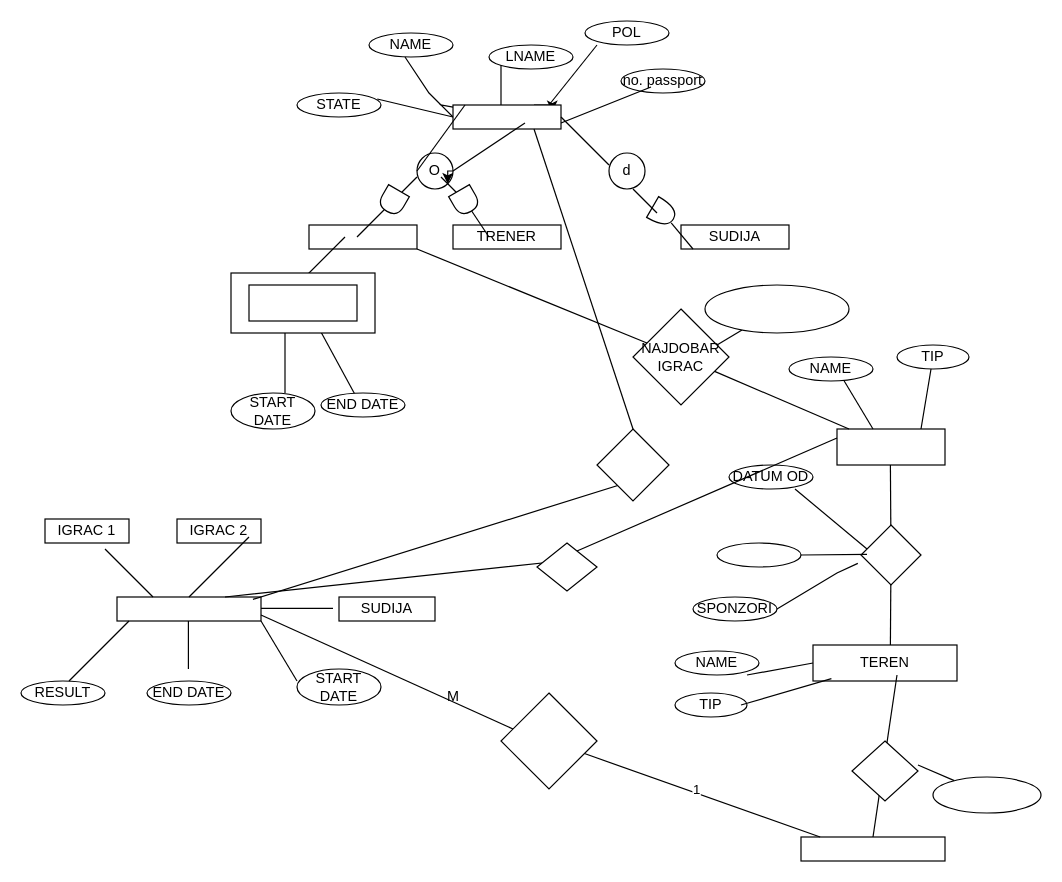
Some shapes in this 1062 by 882 pixel diagram are drawn without their labels. Here are the shapes that lost their labels. From the top down, the centre of each, then its label:
At pixel 506 116: "UCESNIK".
At pixel 362 236: "IGRAC".
At pixel 302 302: "RANG".
At pixel 776 308: "PARICNA NAGRADA".
At pixel 890 446: "TURNIR".
At pixel 758 554: "DATUM DO".
At pixel 188 608: "NATPREVAR".
At pixel 986 794: "BR NA SEDISTE".
At pixel 872 848: "GLEDACI".
